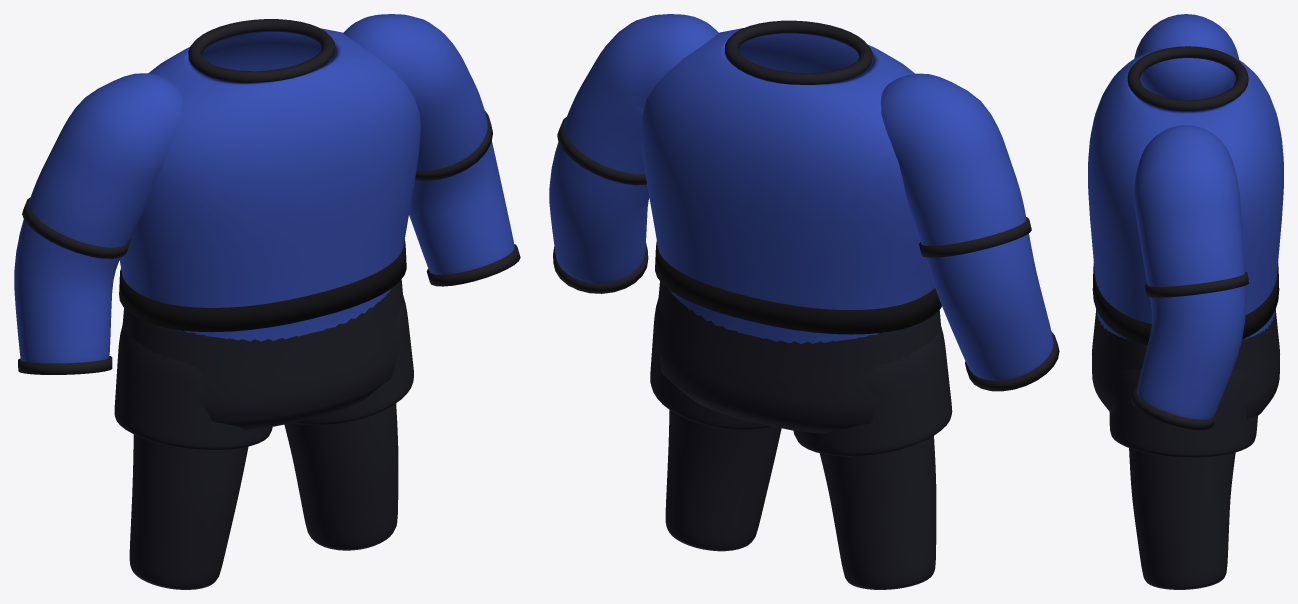
The model's file is nogi.glb.
3 views of the same model, side by side, from view 1: azimuth 30°, elevation 25°; view 2: azimuth 150°, elevation 25°; view 3: azimuth 270°, elevation 25° (orthographic). The views are drawn at different scales.
Visible parts, largest first — view 1: ng_top, ng_shorts, ng_spats, ng_shortR, ng_longR, ng_longL, ng_shortL, ng_waist, ng_collar, ng_shortcuffR, ng_longcuffL, ng_longcuffR (+1 smaller); view 2: ng_top, ng_shorts, ng_spats, ng_shortR, ng_longR, ng_longL, ng_shortL, ng_waist, ng_collar, ng_shortcuffR, ng_shortcuffL, ng_longcuffR (+1 smaller); view 3: ng_top, ng_shortL, ng_spats, ng_shorts, ng_longL, ng_shortR, ng_collar, ng_waist, ng_longR, ng_shortcuffL, ng_longcuffL.
Part boxes in pixels (box(x1,y1,x2,y2)): ng_top: box(119, 28, 420, 341); ng_shorts: box(114, 279, 413, 450); ng_spats: box(129, 403, 398, 589); ng_shortR: box(28, 73, 182, 247); ng_longR: box(14, 73, 182, 363); ng_longL: box(331, 16, 514, 274); ng_shortL: box(332, 14, 487, 165); ng_waist: box(119, 239, 406, 332); ng_collar: box(188, 19, 334, 82); ng_shortcuffR: box(22, 197, 131, 258); ng_longcuffL: box(426, 244, 520, 286); ng_longcuffR: box(18, 356, 112, 374); ng_top: box(641, 28, 934, 343); ng_shorts: box(650, 281, 952, 456); ng_spats: box(665, 410, 936, 589); ng_shortR: box(880, 73, 1026, 244); ng_longR: box(881, 73, 1053, 380); ng_longL: box(549, 16, 715, 283); ng_shortL: box(564, 14, 718, 154); ng_waist: box(655, 241, 941, 334); ng_collar: box(725, 20, 872, 84); ng_shortcuffR: box(919, 217, 1031, 257); ng_shortcuffL: box(557, 117, 646, 185); ng_longcuffR: box(965, 332, 1059, 391); ng_top: box(1088, 49, 1283, 340); ng_shortL: box(1133, 125, 1244, 286); ng_spats: box(1129, 448, 1235, 589); ng_shorts: box(1092, 309, 1279, 457); ng_longL: box(1136, 125, 1246, 419); ng_shortR: box(1134, 14, 1239, 105); ng_collar: box(1127, 46, 1248, 110); ng_waist: box(1092, 263, 1279, 345); ng_longR: box(1140, 22, 1234, 108); ng_shortcuffL: box(1145, 272, 1248, 297); ng_longcuffL: box(1131, 387, 1216, 430).
Size of the model in its own units: 0.9965 by 0.9859 by 0.3742.
